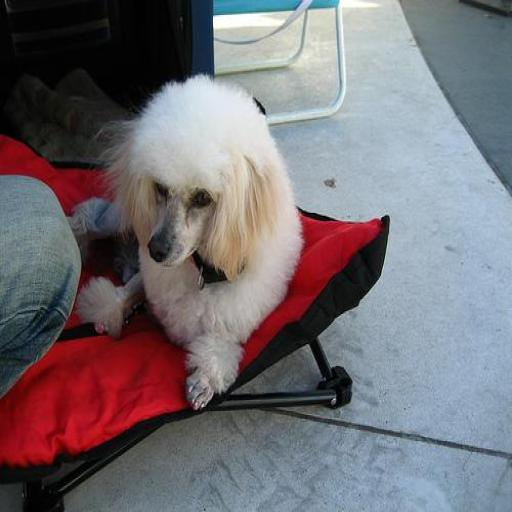dog_face: (113, 85, 270, 273)
